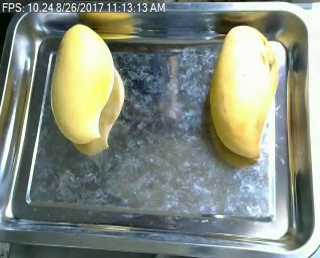Mango: (207, 19, 279, 157), (48, 23, 115, 145)
